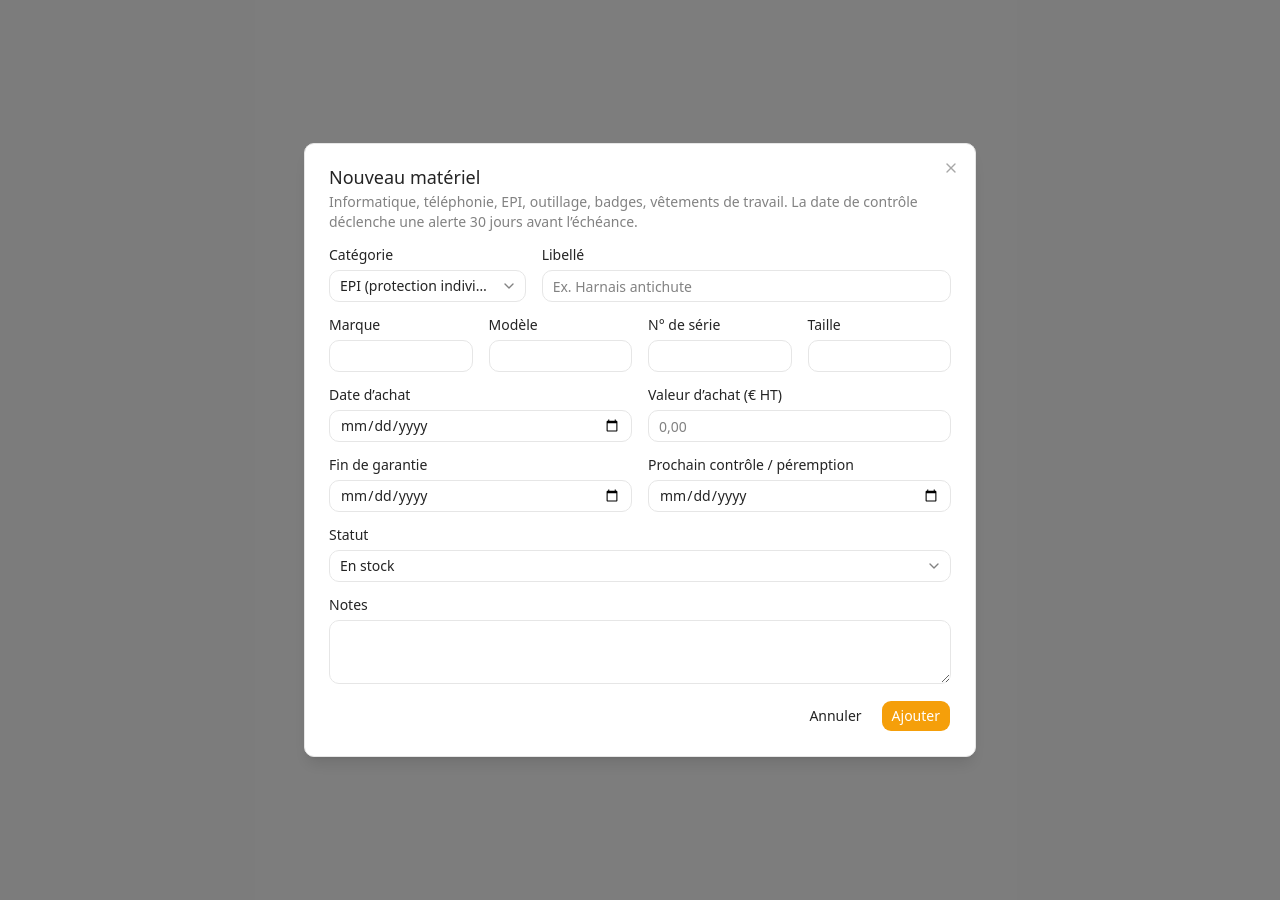
MaterielDialog › refuse un libellé vide
Click the button "Ajouter" at [916, 716], box [881,700,951,732]
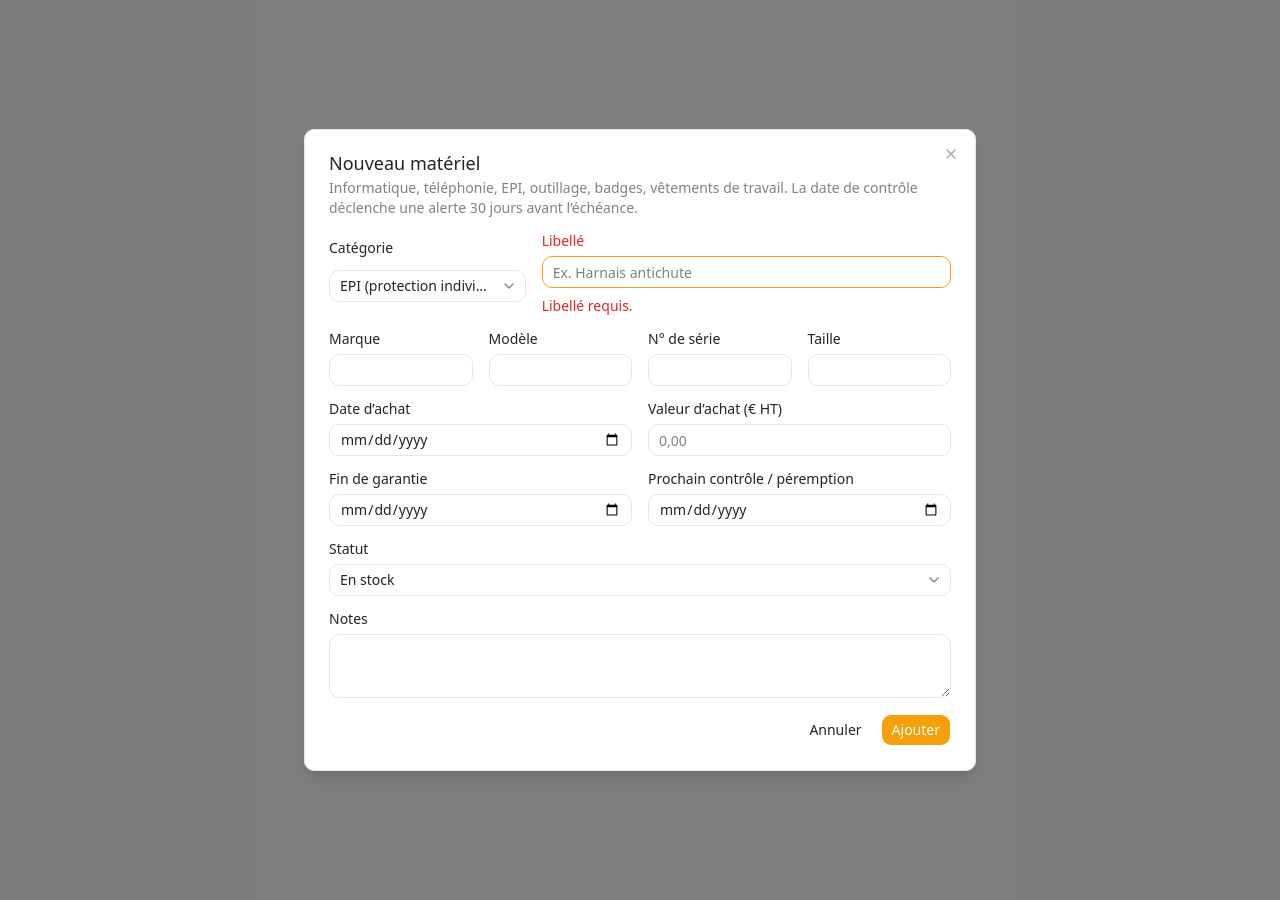
Expected: the text "Libellé requis." is shown, [542,296,633,315]
